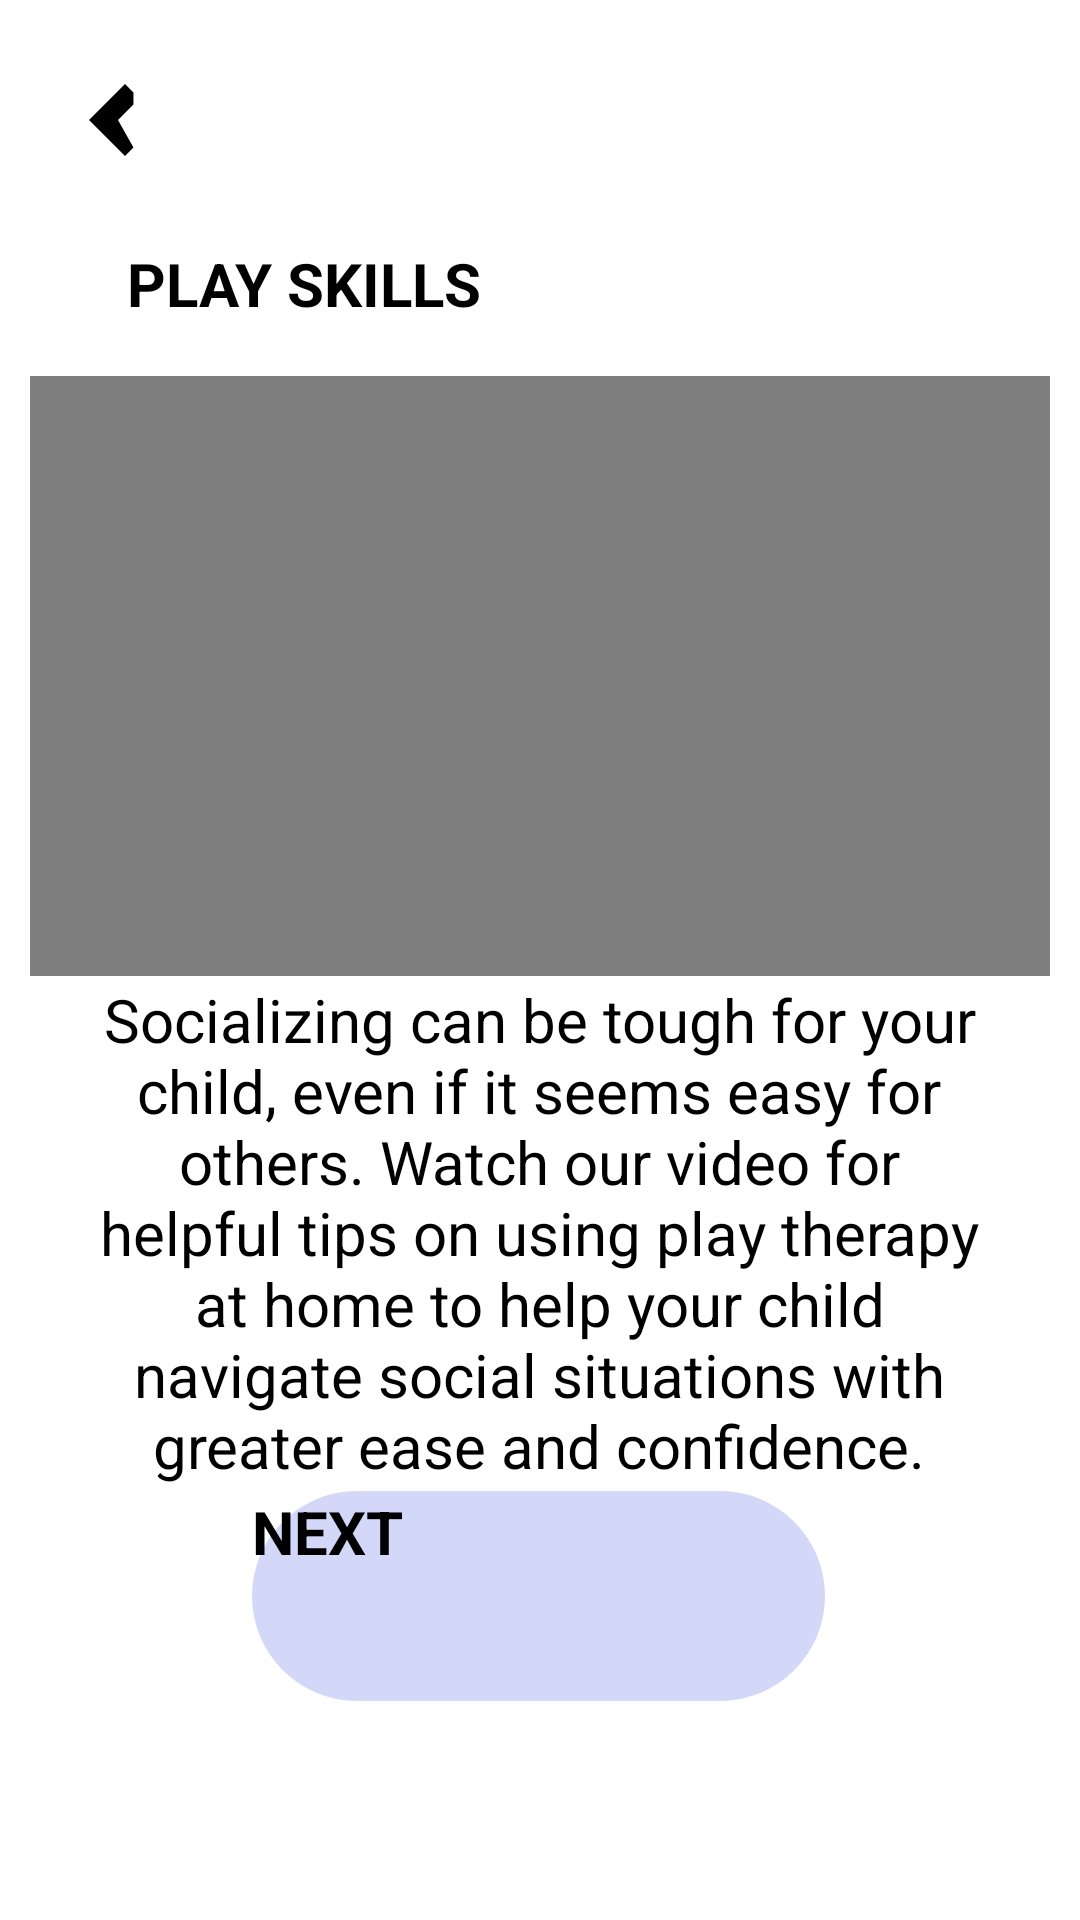

Named icons in this screenshot (1080×1920) and their centers, [x,y]:
back: [111,120]
